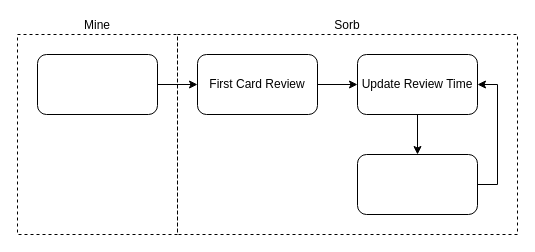
Image size: 535x252. Some labels were removed from this diagram. Each missing label, with the centre of its shape:
"Another Card Review" belongs at [417,184].
"Card Added" belongs at [97,84].
